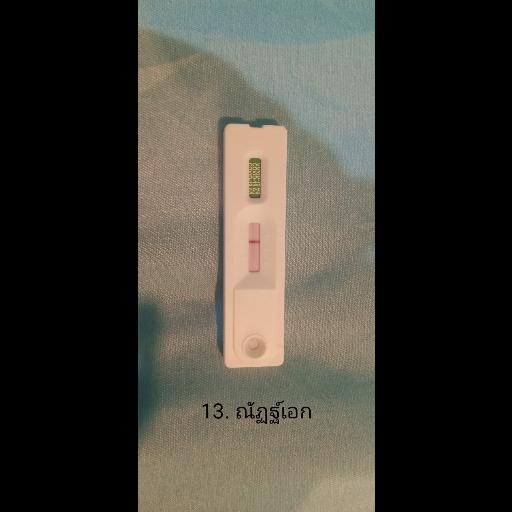Neg: (224, 126, 284, 366)
